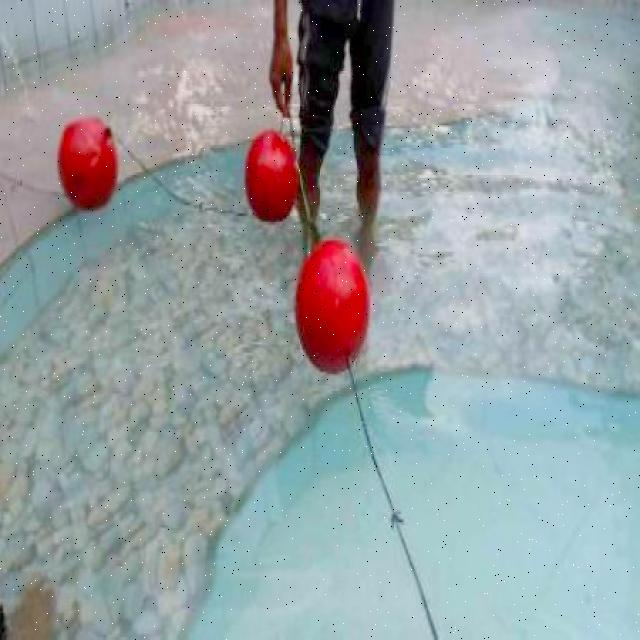buoy: (293, 240, 368, 373), (56, 113, 119, 210), (242, 127, 296, 223)
